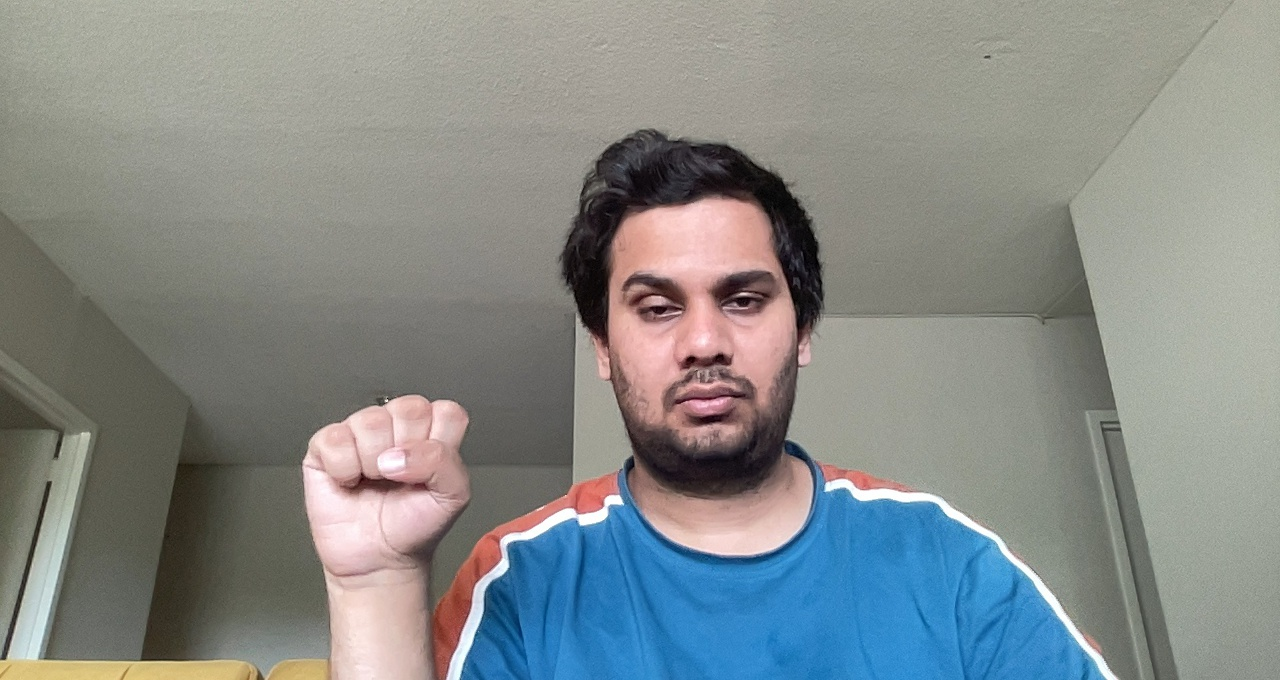closedfist: (297, 389, 481, 592)
